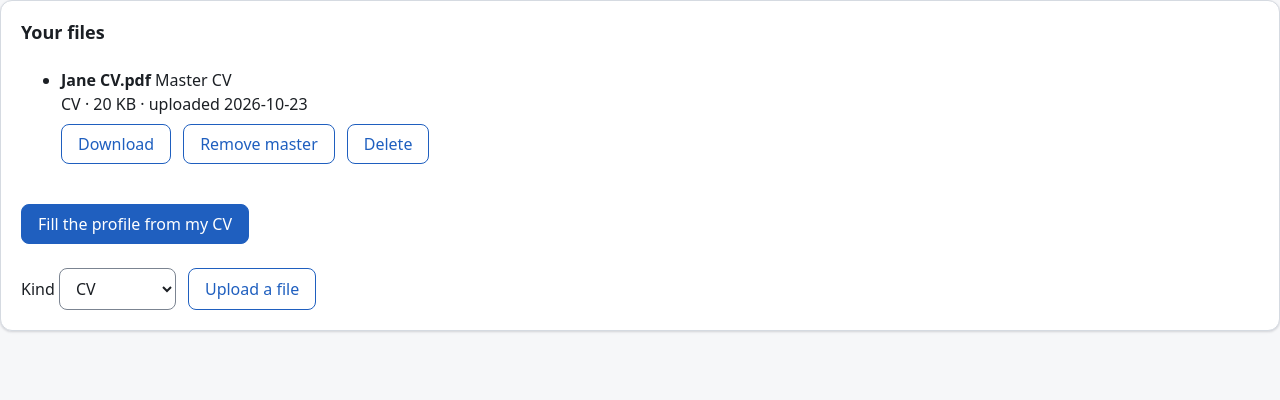
Test: filling the profile from the master CV › hands the draft to the page and says nothing is saved
This screenshot has width=1280, height=400.
Click the button "Fill the profile from my CV" at (135, 224), box [21, 204, 249, 244]
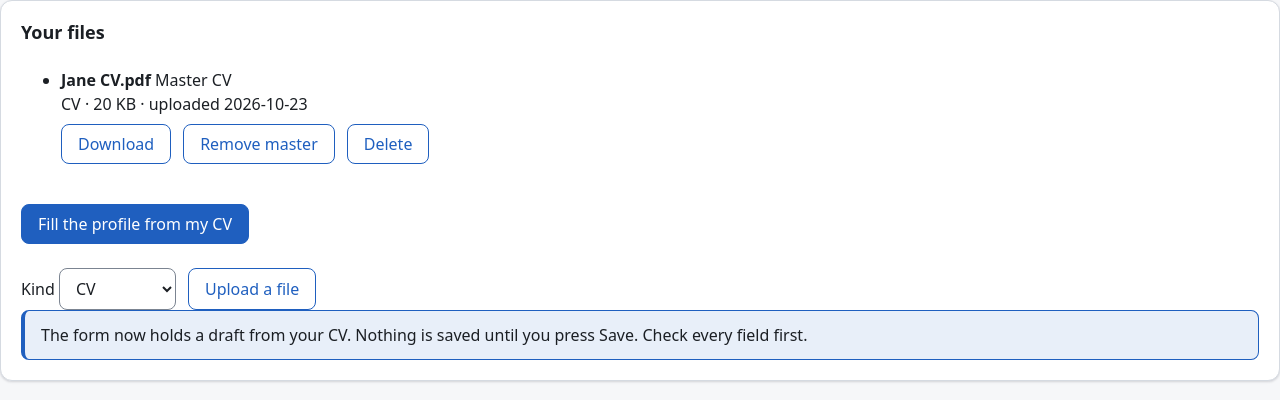
Expected: the text "Nothing is saved until you press Save" is shown, [41, 324, 807, 346]
